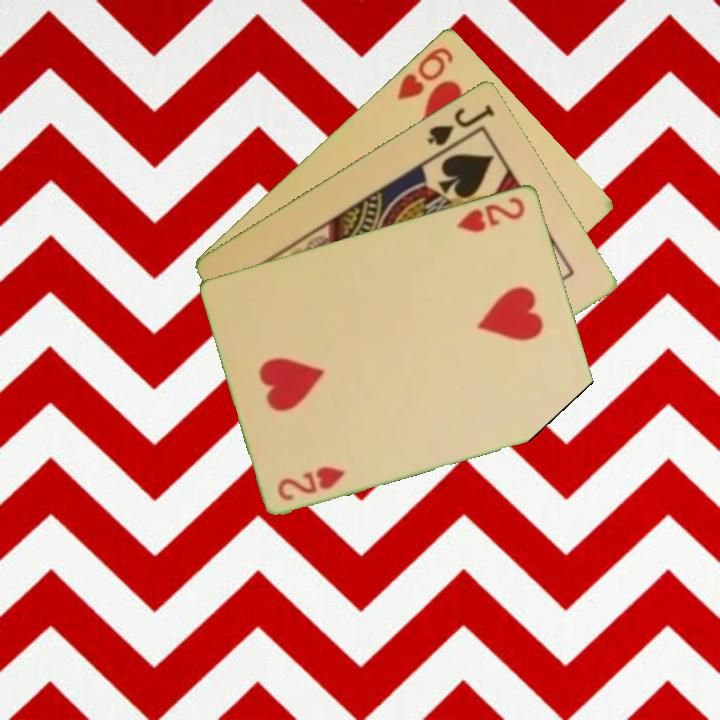2h: (453, 193, 528, 235), (274, 462, 349, 503)
6h: (393, 43, 457, 103)
Js: (423, 100, 498, 149)
